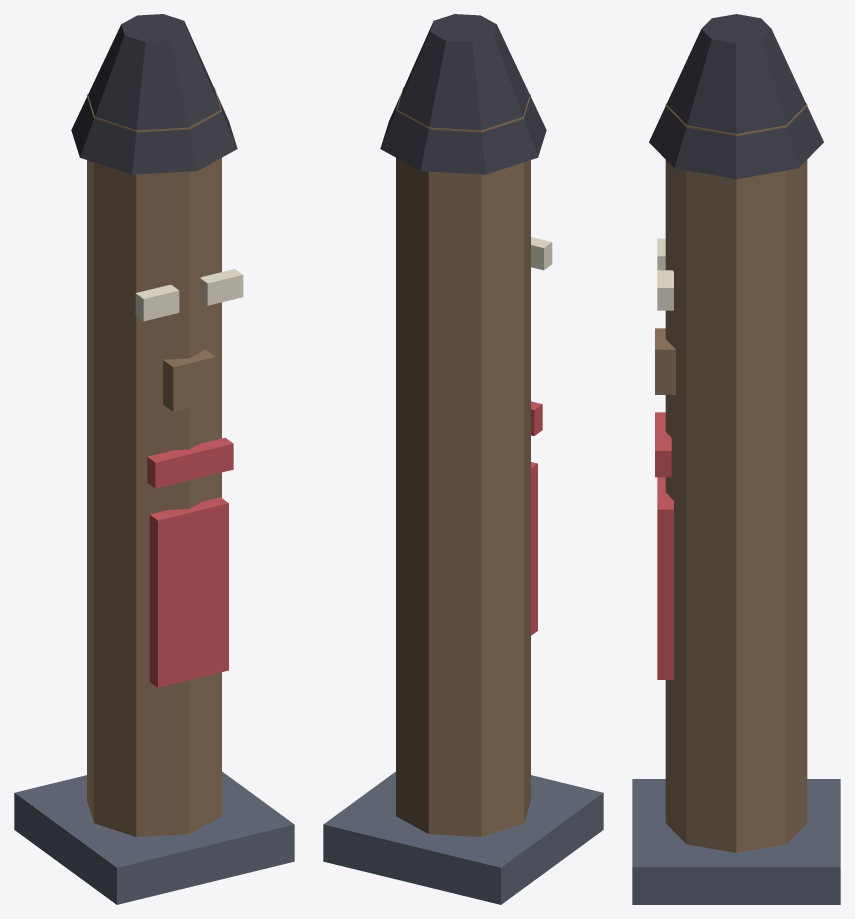
Rendered from jangseung.glb.
The picture shows the model from 3 angles, left to right: view 1: azimuth 30°, elevation 25°; view 2: azimuth 150°, elevation 25°; view 3: azimuth 270°, elevation 25°; orthographic projection.
Parts seen in each view (by area): view 1: jangseung; view 2: jangseung; view 3: jangseung.
Part boxes in pixels (<box>): jangseung: <box>14,14,294,904</box>; jangseung: <box>323,14,603,904</box>; jangseung: <box>632,14,840,904</box>.
Bounding box in the file's own units: 0.5 × 2.2 × 0.5.
